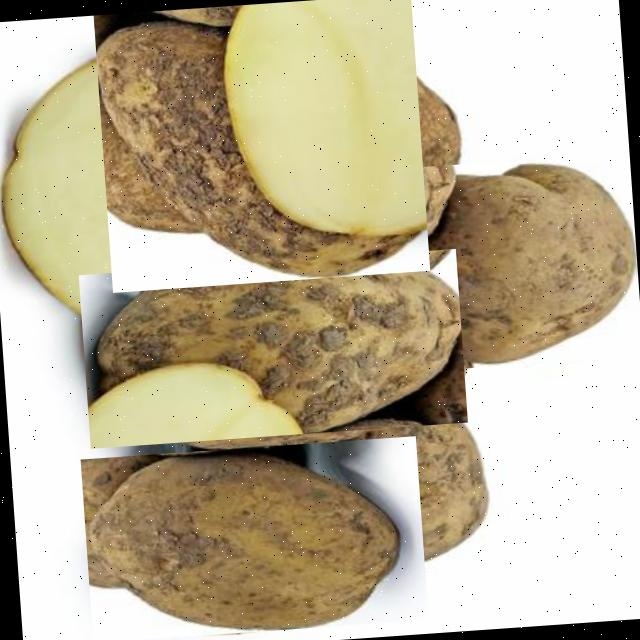Damaged potato: (92, 0, 429, 292), (78, 248, 466, 448), (79, 435, 427, 640), (179, 373, 501, 584), (418, 152, 640, 370)
